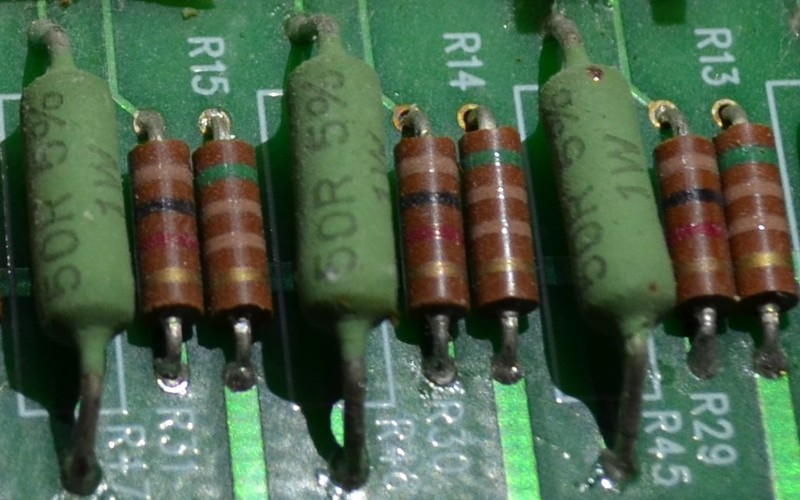Resistor: (12, 55, 800, 500)
